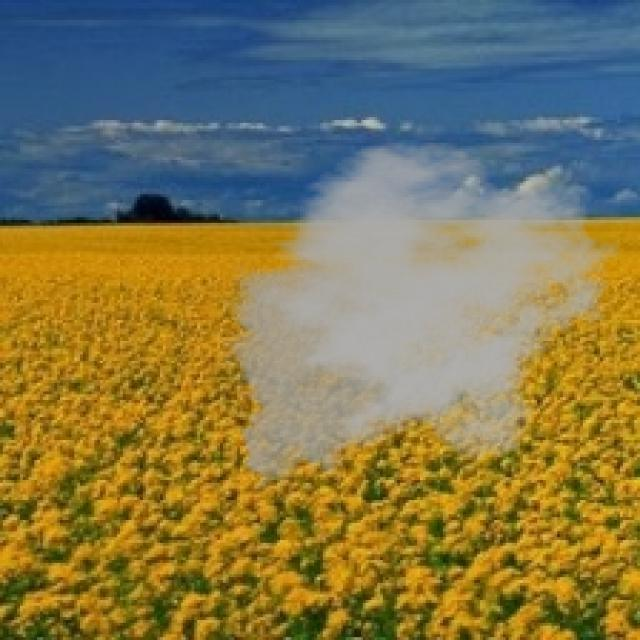Smoke: (217, 140, 623, 497)
